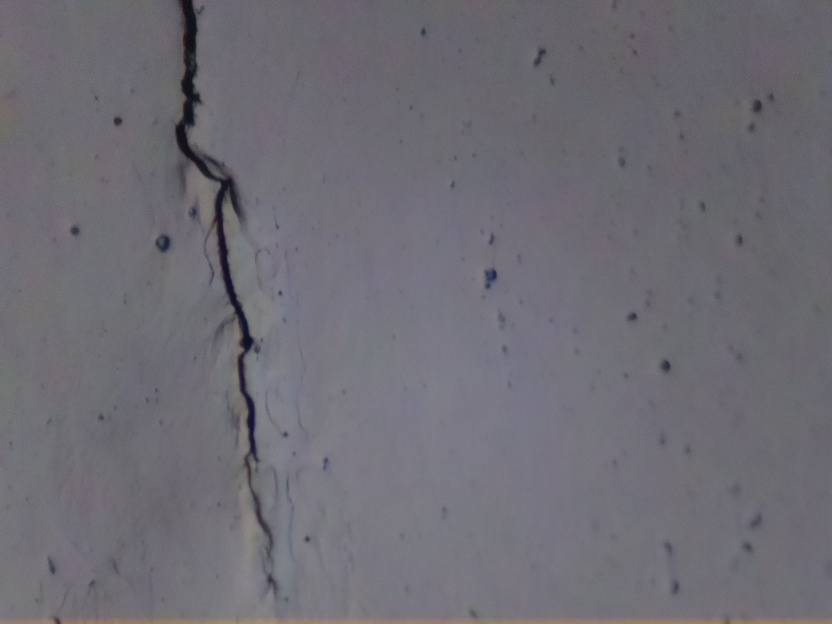crack: (171, 0, 276, 547)
